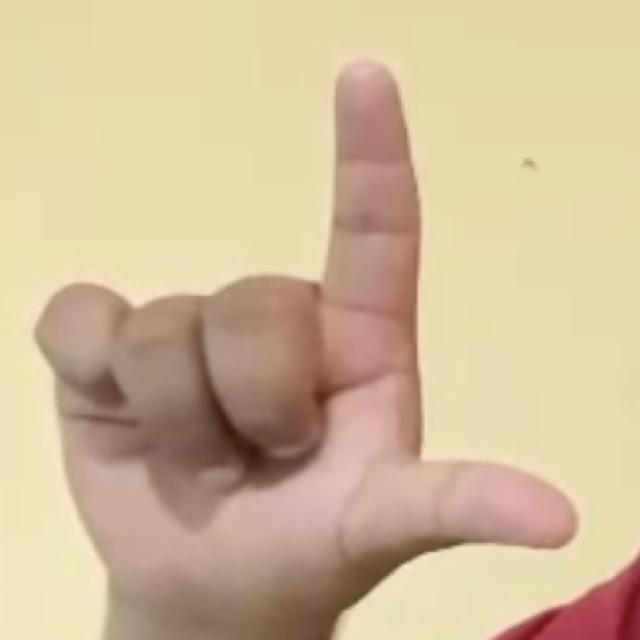LL: (31, 50, 591, 620)
